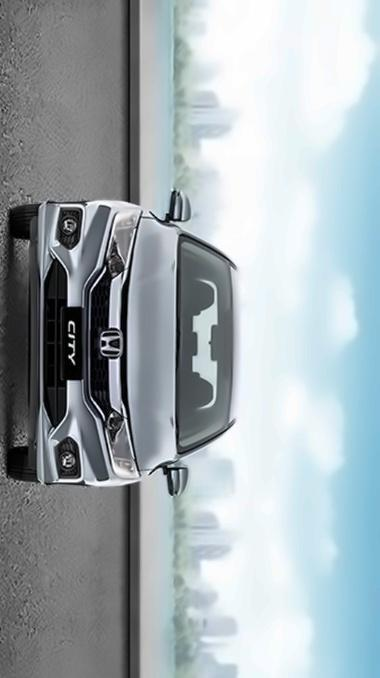Car hood: (127, 205, 175, 484)
Front bumper: (30, 190, 102, 496)
Headlight - -L-: (98, 414, 145, 479)
Headlight - -R-: (101, 208, 144, 282)
Side mirror - -L-: (163, 459, 187, 502)
Side mirror - -R-: (163, 188, 190, 229)
